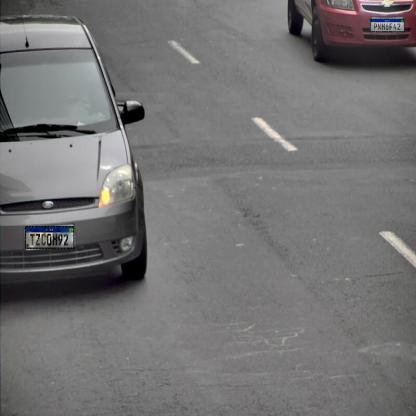PlacaM: (25, 226, 74, 249), (370, 19, 405, 32)
